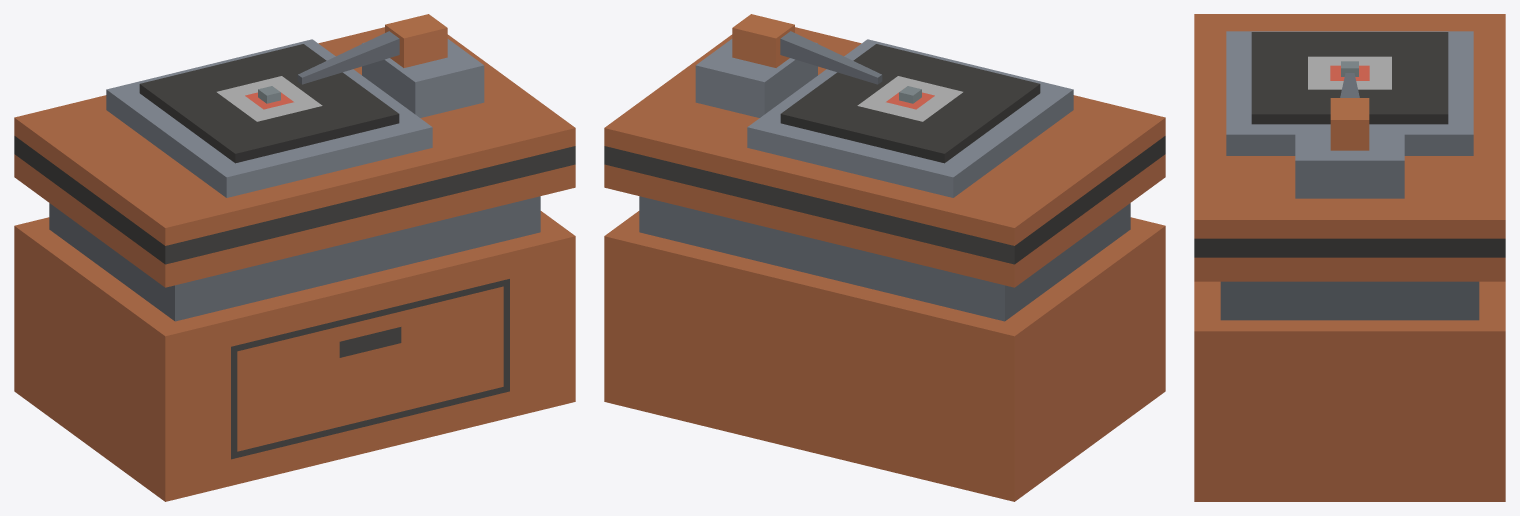
File: RecordPlayer.glb
3 renders of one model, left to right at view 1: azimuth 30°, elevation 25°; view 2: azimuth 150°, elevation 25°; view 3: azimuth 270°, elevation 25°, orthographic. The views are drawn at different scales.
Visible parts, largest first — view 1: SI_Prop_RecordPlayer; view 2: SI_Prop_RecordPlayer; view 3: SI_Prop_RecordPlayer.
Part boxes in pixels (x1,y1,x2,y2): SI_Prop_RecordPlayer: (14, 14, 575, 501); SI_Prop_RecordPlayer: (604, 14, 1165, 501); SI_Prop_RecordPlayer: (1194, 14, 1505, 501).
Size of the model in its own units: 0.0157 by 0.0124 by 0.01.
1 material, 1 textured.
